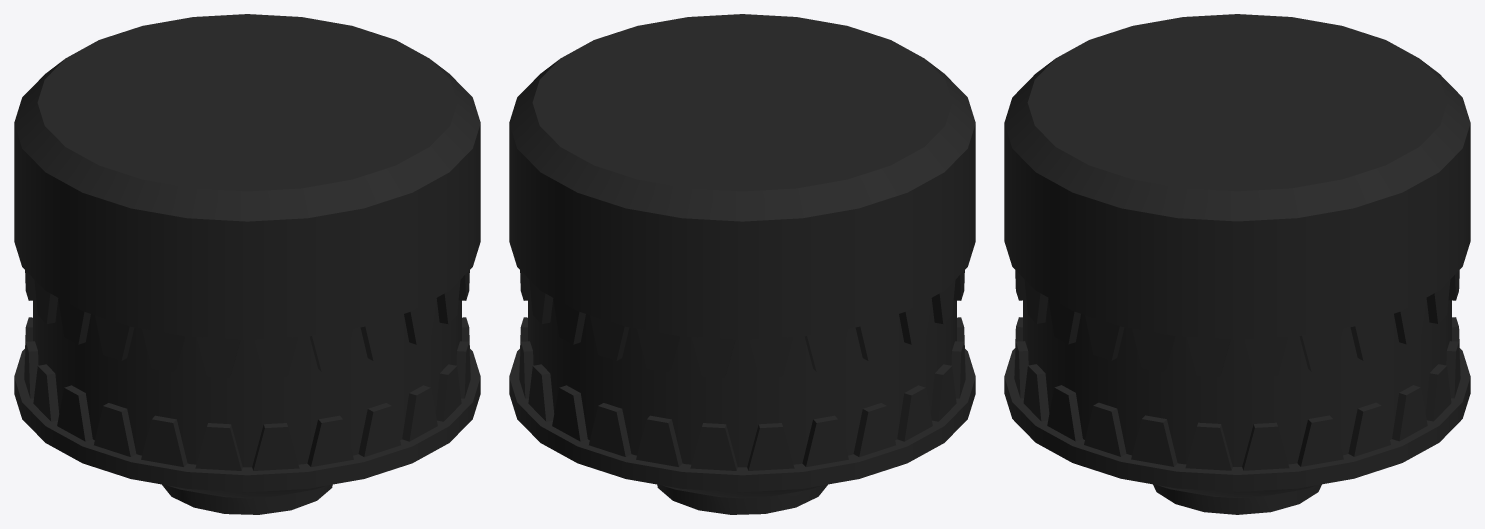
Rendered from Arrow_SRM_0_1.obj.
3 views of the same model, side by side, from view 1: azimuth 30°, elevation 25°; view 2: azimuth 150°, elevation 25°; view 3: azimuth 270°, elevation 25° (orthographic).
Visible parts, largest first — view 1: Arrow_SRM_0_1; view 2: Arrow_SRM_0_1; view 3: Arrow_SRM_0_1.
Part boxes in pixels (x1=…): Arrow_SRM_0_1: x1=14, y1=14, x2=480, y2=514; Arrow_SRM_0_1: x1=509, y1=14, x2=975, y2=514; Arrow_SRM_0_1: x1=1004, y1=14, x2=1470, y2=514.
Size of the model in its own units: 0.625 by 0.555 by 0.625.
